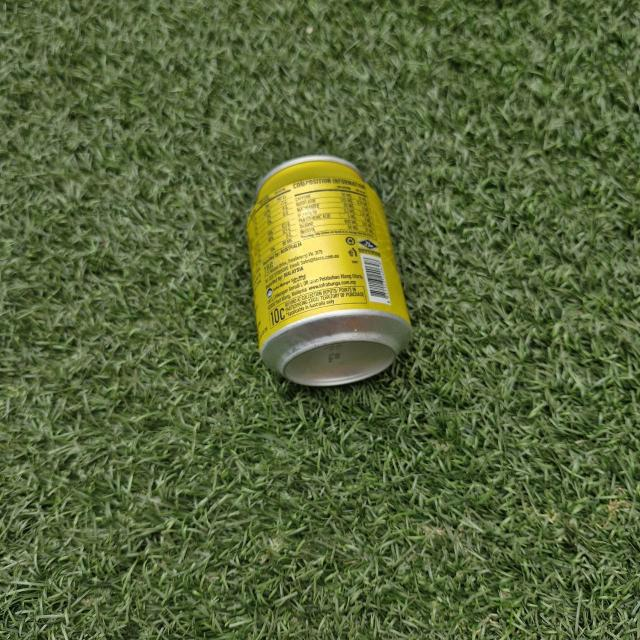metal: (240, 150, 420, 396)
